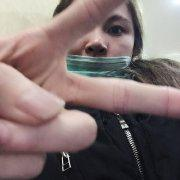WRONG: (61, 11, 134, 84)
